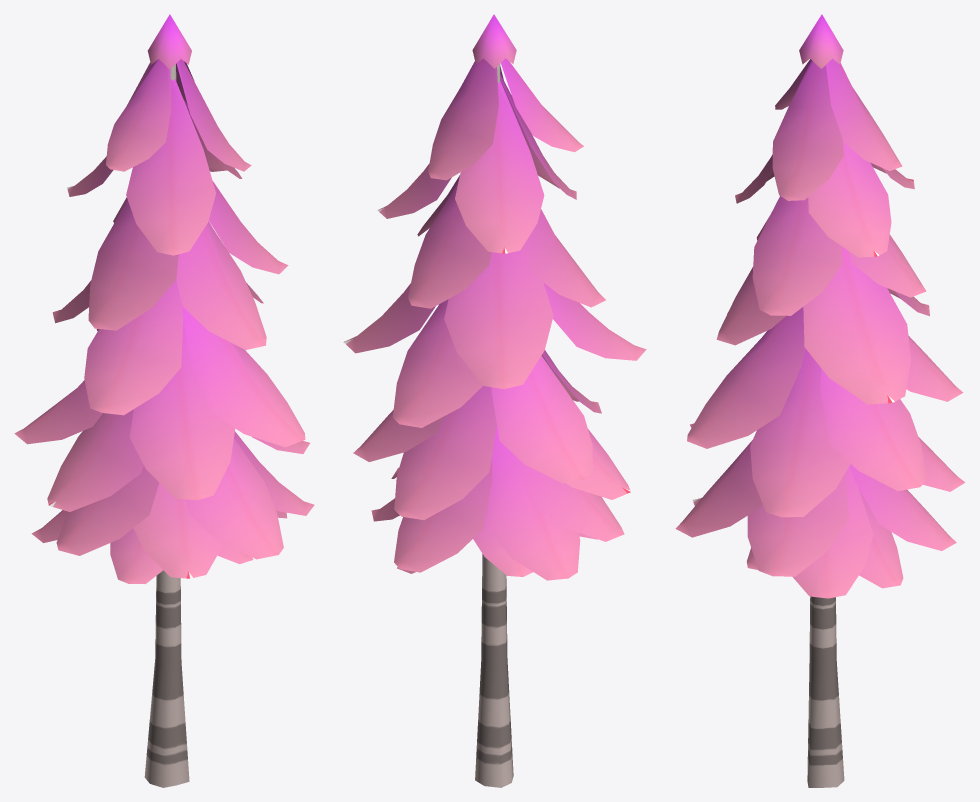
The model's file is TreeV3.fbx.
3 renders of one model, left to right at view 1: azimuth 30°, elevation 25°; view 2: azimuth 150°, elevation 25°; view 3: azimuth 270°, elevation 25°, orthographic.
Visible parts, largest first — view 1: TreeV3; view 2: TreeV3; view 3: TreeV3.
Part boxes in pixels (box(x1,y1,x2,y2)): TreeV3: box(14, 14, 314, 787); TreeV3: box(343, 14, 646, 787); TreeV3: box(675, 14, 964, 787).
Size of the model in its own units: 16.57 by 48.54 by 16.62.
Materials: 1 (1 with a texture image).
